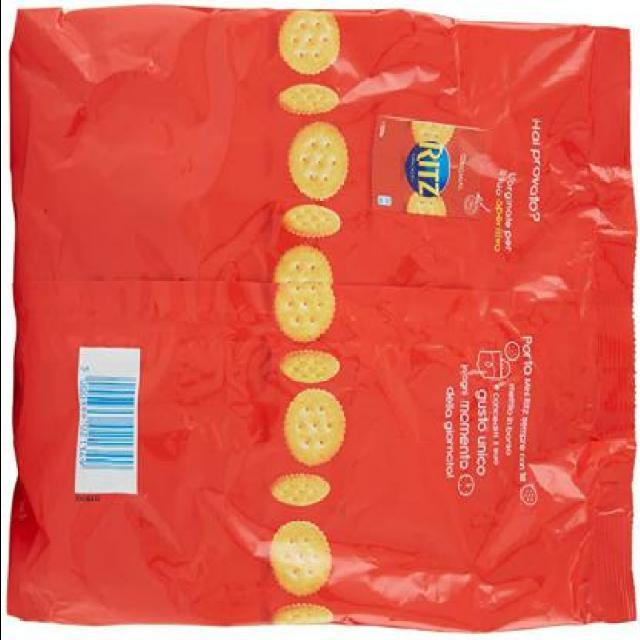Ritz cracker: (0, 3, 633, 634)
